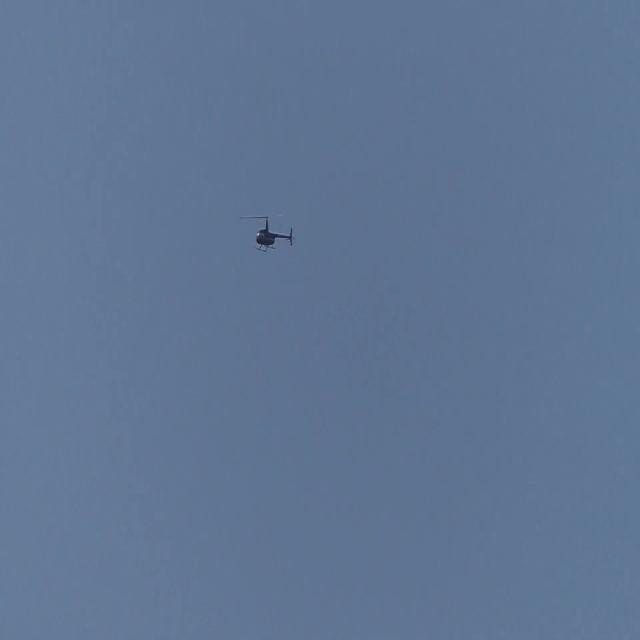CIV_HELO: (255, 216, 293, 253)
